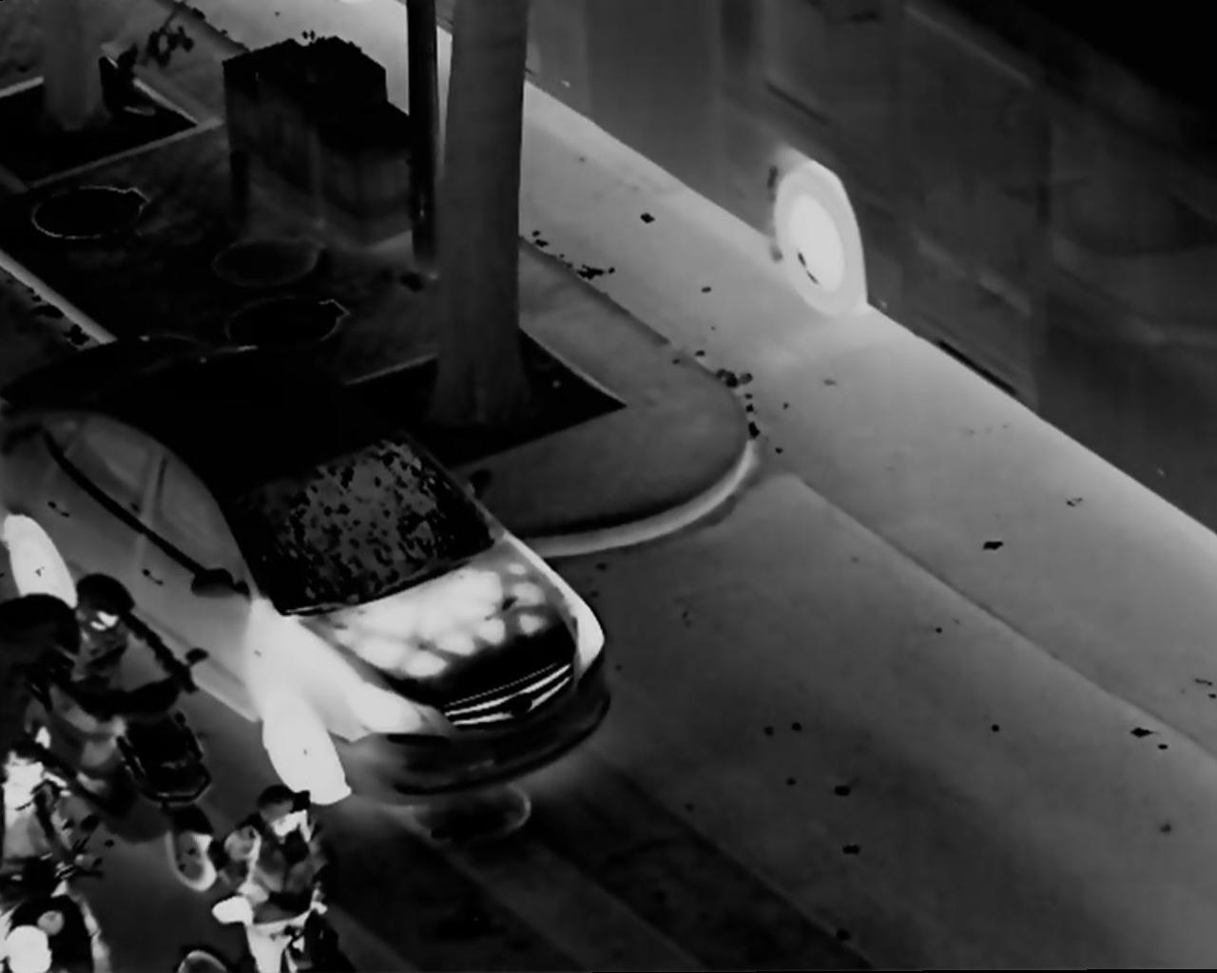person: (50, 571, 178, 850), (216, 785, 351, 973), (9, 735, 95, 973)
